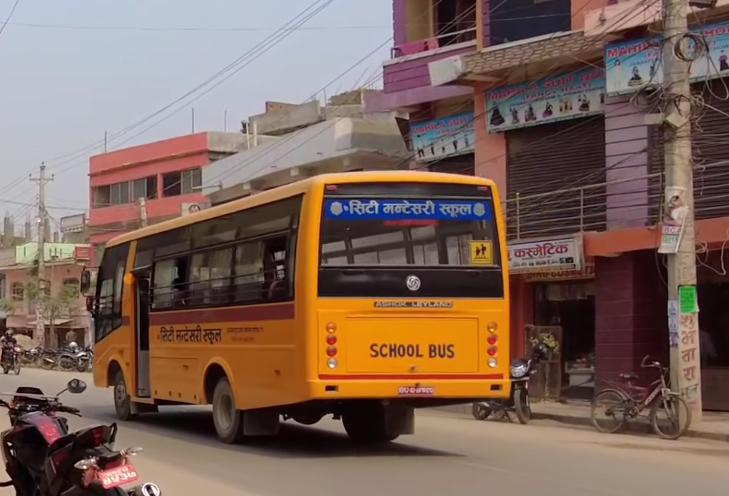bike: (0, 376, 160, 496), (474, 351, 535, 424), (2, 338, 25, 377)
school_bus: (77, 164, 522, 449)
